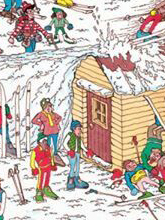waldo: (21, 1, 35, 20)
